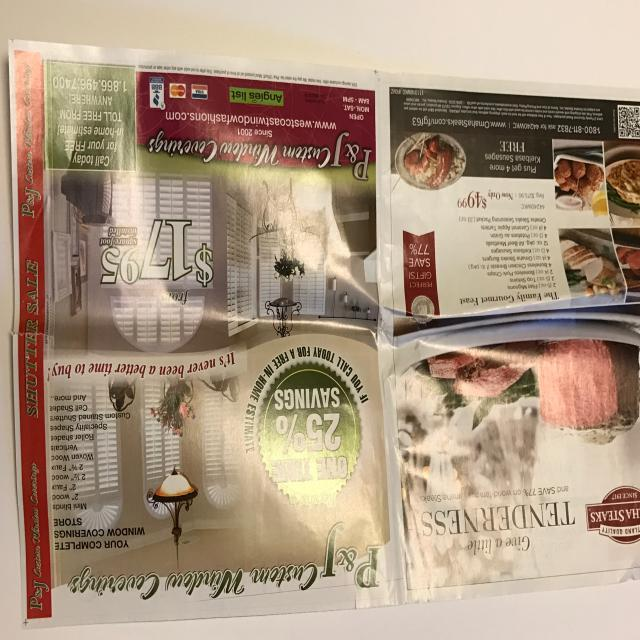paper: (8, 38, 640, 627)
